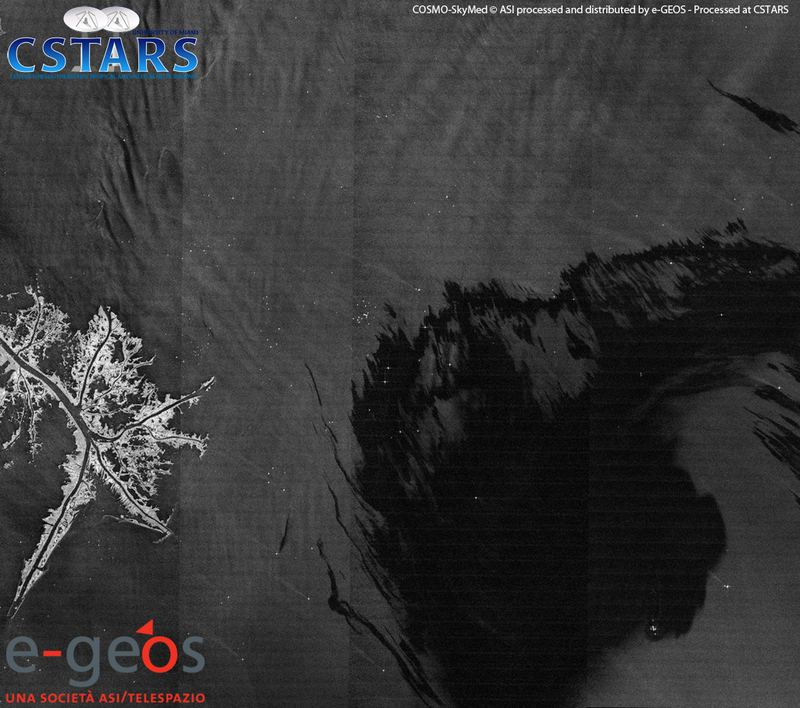anomaly: (267, 208, 800, 695)
